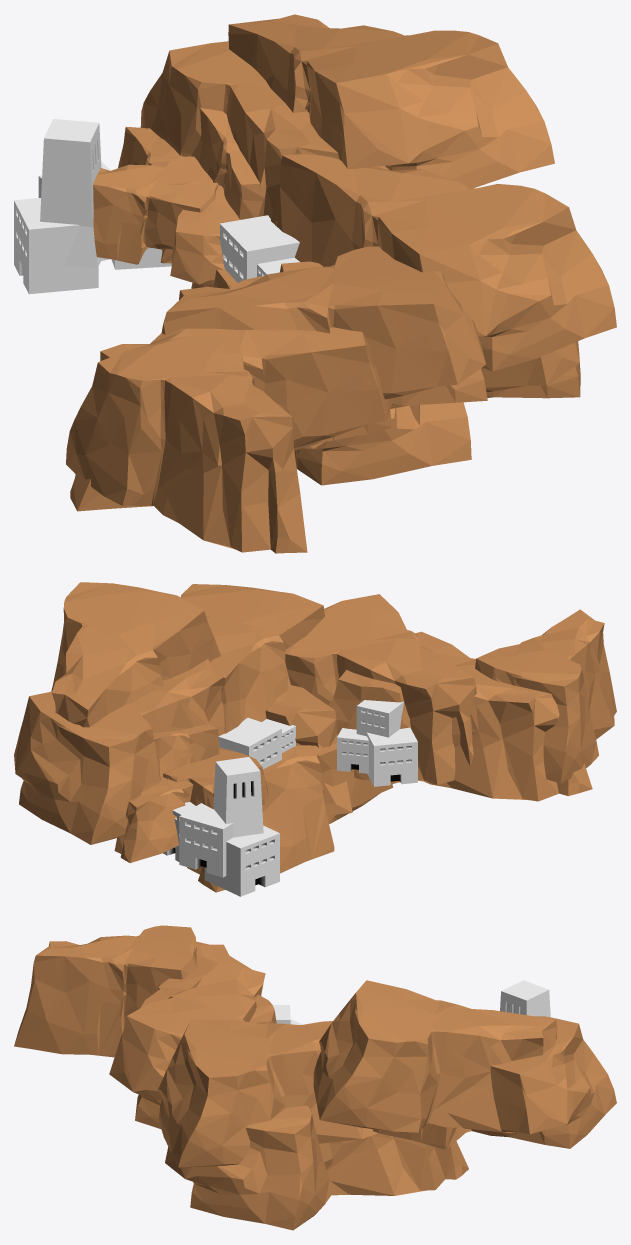
File: enviornmentSet03.fbx
3 views of the same model, one above another, from view 1: azimuth 30°, elevation 25°; view 2: azimuth 150°, elevation 25°; view 3: azimuth 270°, elevation 25° (orthographic). The views are drawn at different scales.
Parts seen in each view (by area): view 1: rock1 (7), rock1 (11), rock1 (4), rock1 (8), rock1 (9), rock1 (3), rock1 (1), rock1 (18), tower, house (7), rock1 (10), rock1 (6) (+3 smaller); view 2: rock1 (3), rock1 (4), rock1 (8), rock1 (9), rock1 (11), rock1 (7), rock1 (18), rock1 (5), rock1 (10), tower, house (7), house (5) (+8 smaller); view 3: rock1 (4), rock1 (7), rock1 (11), rock1 (3), rock1 (10), rock1 (8), rock1 (18), rock1 (9), tower.
Part boxes in pixels (box(x1,y1,x2,y2)): rock1 (7): box(270, 153, 616, 371); rock1 (11): box(66, 335, 307, 553); rock1 (4): box(228, 14, 554, 188); rock1 (8): box(161, 246, 487, 440); rock1 (9): box(70, 276, 393, 511); rock1 (3): box(140, 41, 339, 226); rock1 (1): box(93, 156, 218, 264); rock1 (18): box(191, 269, 471, 485); tower: box(40, 119, 102, 267); house (7): box(14, 198, 98, 294); rock1 (10): box(279, 261, 580, 424); rock1 (6): box(191, 107, 266, 219); rock1 (3): box(14, 659, 231, 844); rock1 (4): box(51, 582, 220, 727); rock1 (8): box(285, 594, 476, 784); rock1 (9): box(328, 631, 592, 801); rock1 (11): box(475, 609, 616, 783); rock1 (7): box(180, 584, 324, 733); rock1 (18): box(187, 743, 393, 892); rock1 (5): box(114, 766, 210, 863); rock1 (10): box(265, 685, 352, 814); tower: box(213, 757, 263, 837); house (7): box(204, 825, 279, 896); house (5): box(179, 803, 233, 877); rock1 (4): box(313, 980, 557, 1132); rock1 (7): box(158, 1019, 377, 1167); rock1 (11): box(14, 925, 197, 1057); rock1 (3): box(372, 1016, 616, 1149); rock1 (10): box(165, 1105, 332, 1230); rock1 (8): box(109, 955, 265, 1128); rock1 (18): box(326, 1133, 468, 1195); rock1 (9): box(140, 941, 276, 1024); tower: box(500, 980, 550, 1017).
Bounding box in the file's own units: 20.18 × 10.28 × 25.25.
